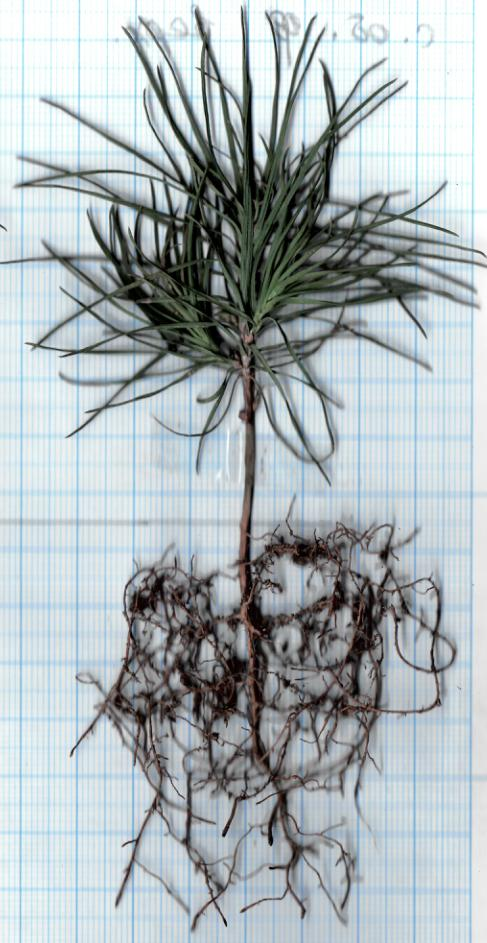flower: (28, 18, 487, 432)
root: (87, 514, 463, 923)
stem: (226, 373, 266, 549)
